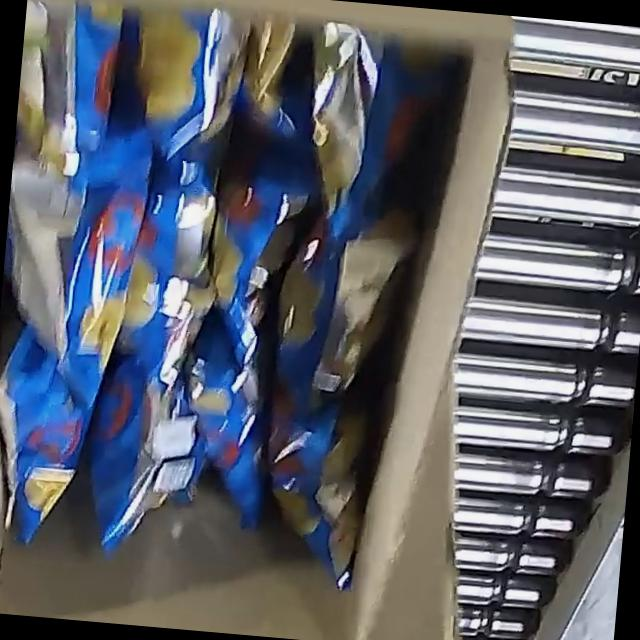paprika: (0, 0, 471, 602)
